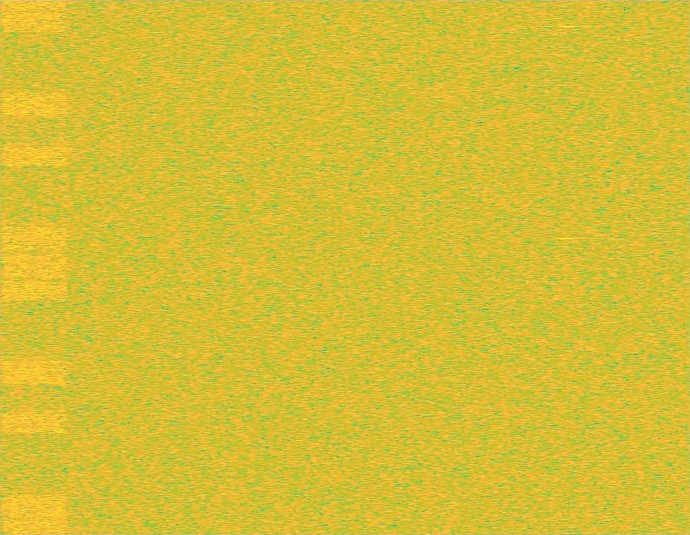LTE: (0, 0, 69, 534)
Radar: (560, 0, 574, 534)
